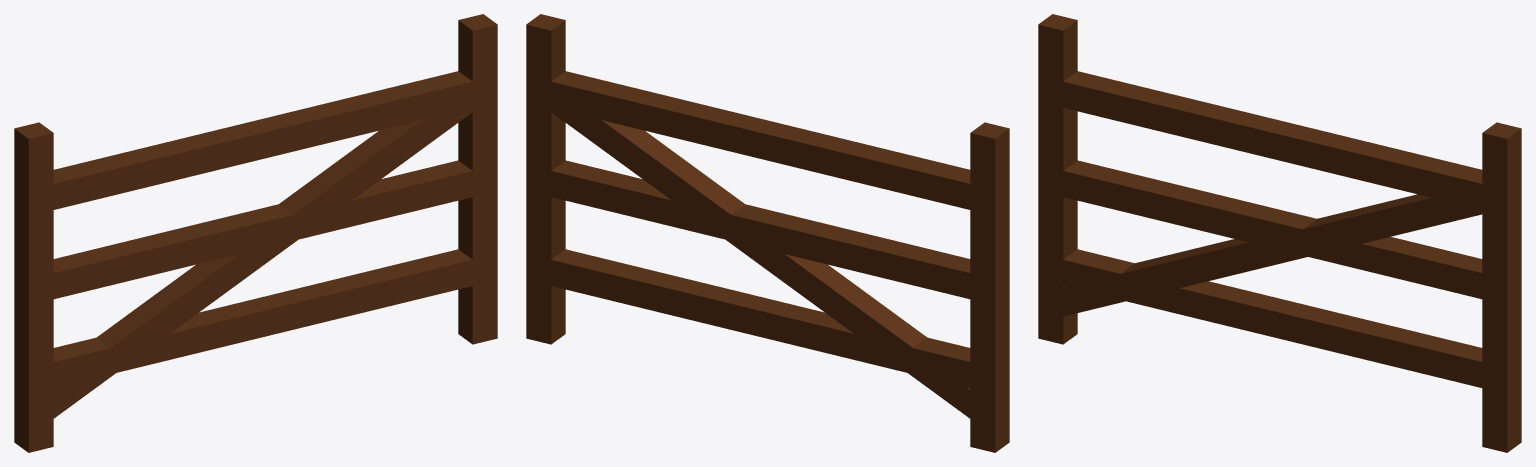
File: Fence Gate.FBX
The picture shows the model from 3 angles, left to right: view 1: azimuth 30°, elevation 25°; view 2: azimuth 150°, elevation 25°; view 3: azimuth 330°, elevation 25°; orthographic projection.
Parts seen in each view (by area): view 1: Gate Post 001 (×2), Gate Post 006, Gate Post 004, Gate Post 005, Gate Post 002; view 2: Gate Post 001 (×2), Gate Post 002, Gate Post 006, Gate Post 004, Gate Post 005; view 3: Gate Post 001 (×2), Gate Post 006, Gate Post 005, Gate Post 004, Gate Post 002.
Boxes of the visible parts, x1,y1,x2,y2 form: Gate Post 001 (×2): (14,14,497,452); Gate Post 006: (35,71,485,214); Gate Post 004: (35,249,485,392); Gate Post 005: (35,160,485,303); Gate Post 002: (30,108,472,419); Gate Post 001 (×2): (526,14,1009,452); Gate Post 002: (536,76,993,427); Gate Post 006: (551,71,986,213); Gate Post 004: (538,249,988,391); Gate Post 005: (541,160,970,299); Gate Post 001 (×2): (1038,14,1521,452); Gate Post 006: (1044,71,1494,212); Gate Post 005: (1044,160,1494,302); Gate Post 004: (1045,249,1494,390); Gate Post 002: (1043,184,1502,318).
Bounding box in the file's own units: 0.9381 × 0.6 × 0.05.
